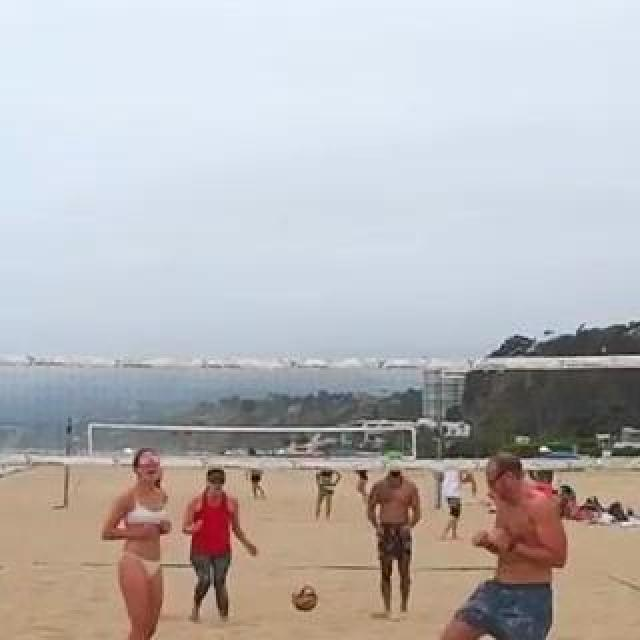volleyball: (290, 585, 318, 611)
